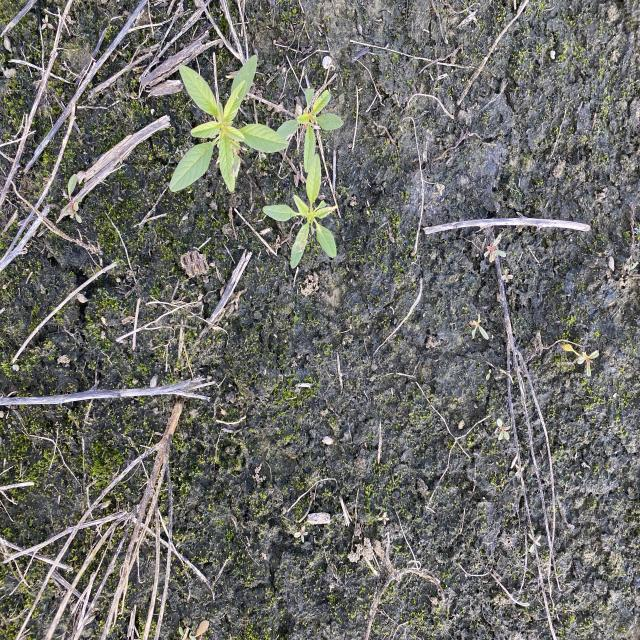Waterhemp: (168, 52, 290, 194), (261, 153, 339, 270), (275, 86, 345, 172)
